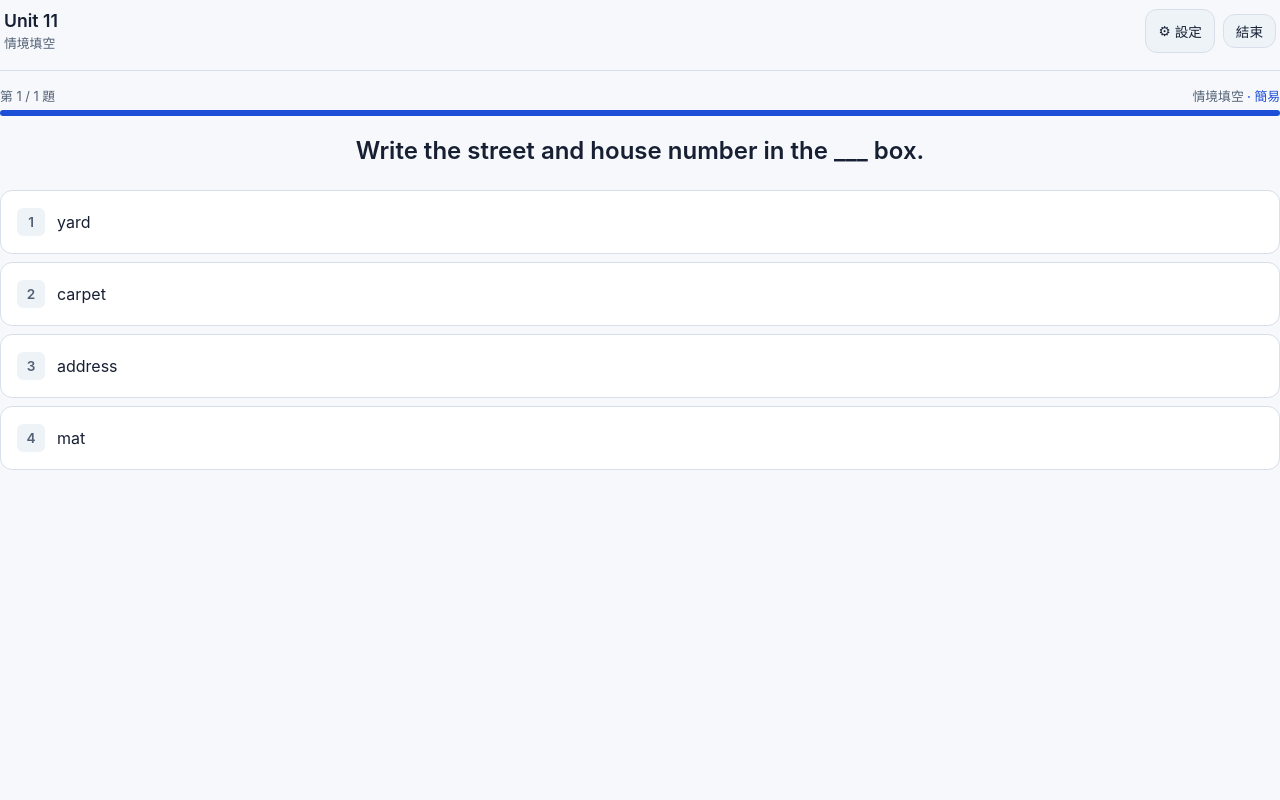
Test: ReportDialog (回報題目問題) › shows the report button in cloze feedback and opens the dialog
Click the button with class "option-btn" showing "1 yard": (74, 222) [0,190,1279,254]
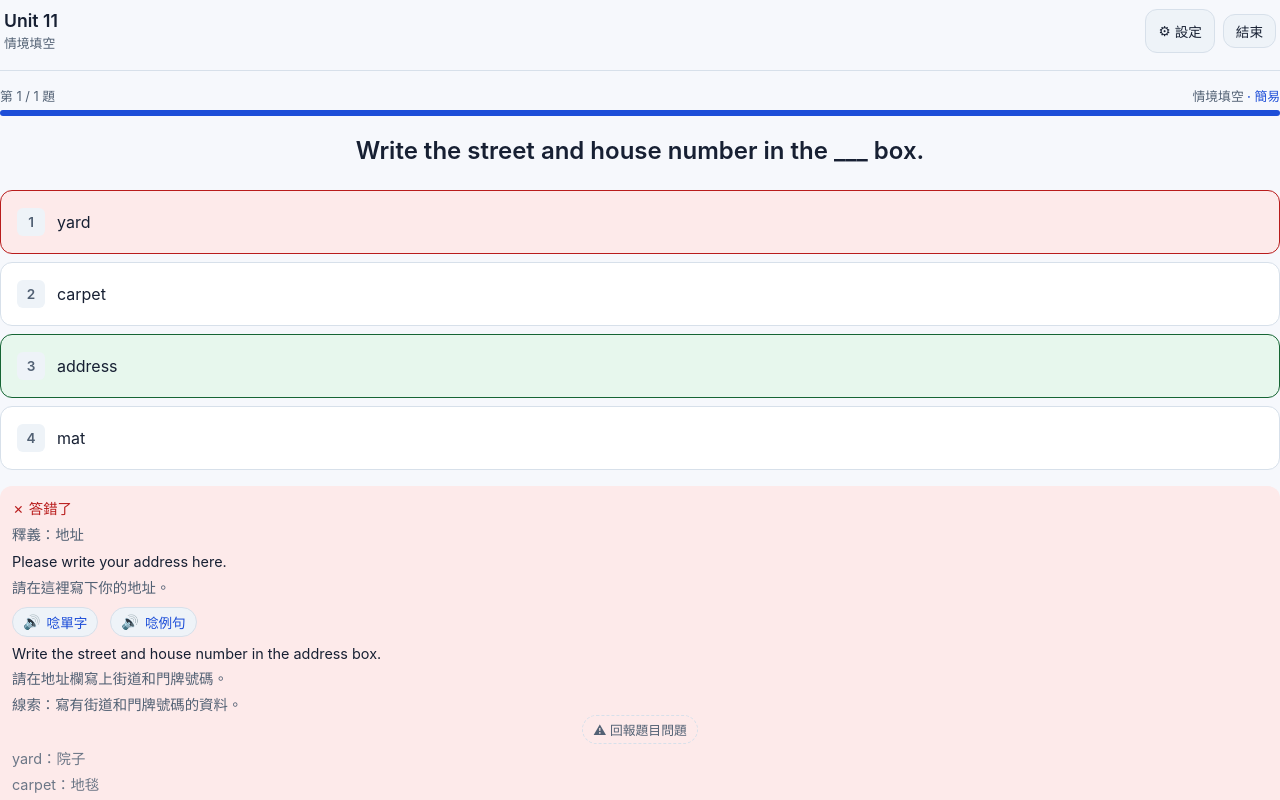
Expected: the button with class "report-btn" is shown
Click the button with class "report-btn": (640, 730) [582,715,698,744]
(page scrolled)
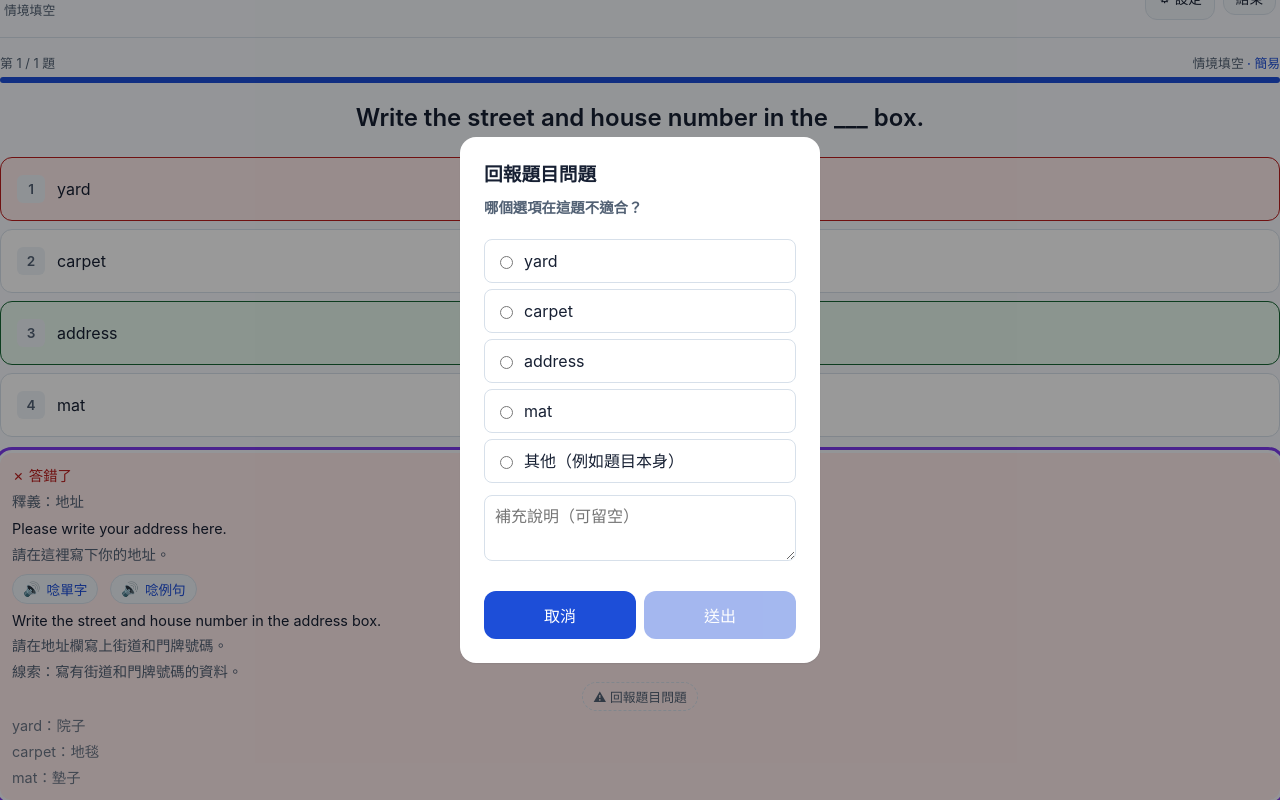
Expected: the dialog with class "report-modal" is shown, [460,137,820,663]
Expected: the number of radio buttons is 5, [500,256,513,269]; [500,306,513,319]; [500,356,513,369]; [500,406,513,419]; [500,456,513,469]
